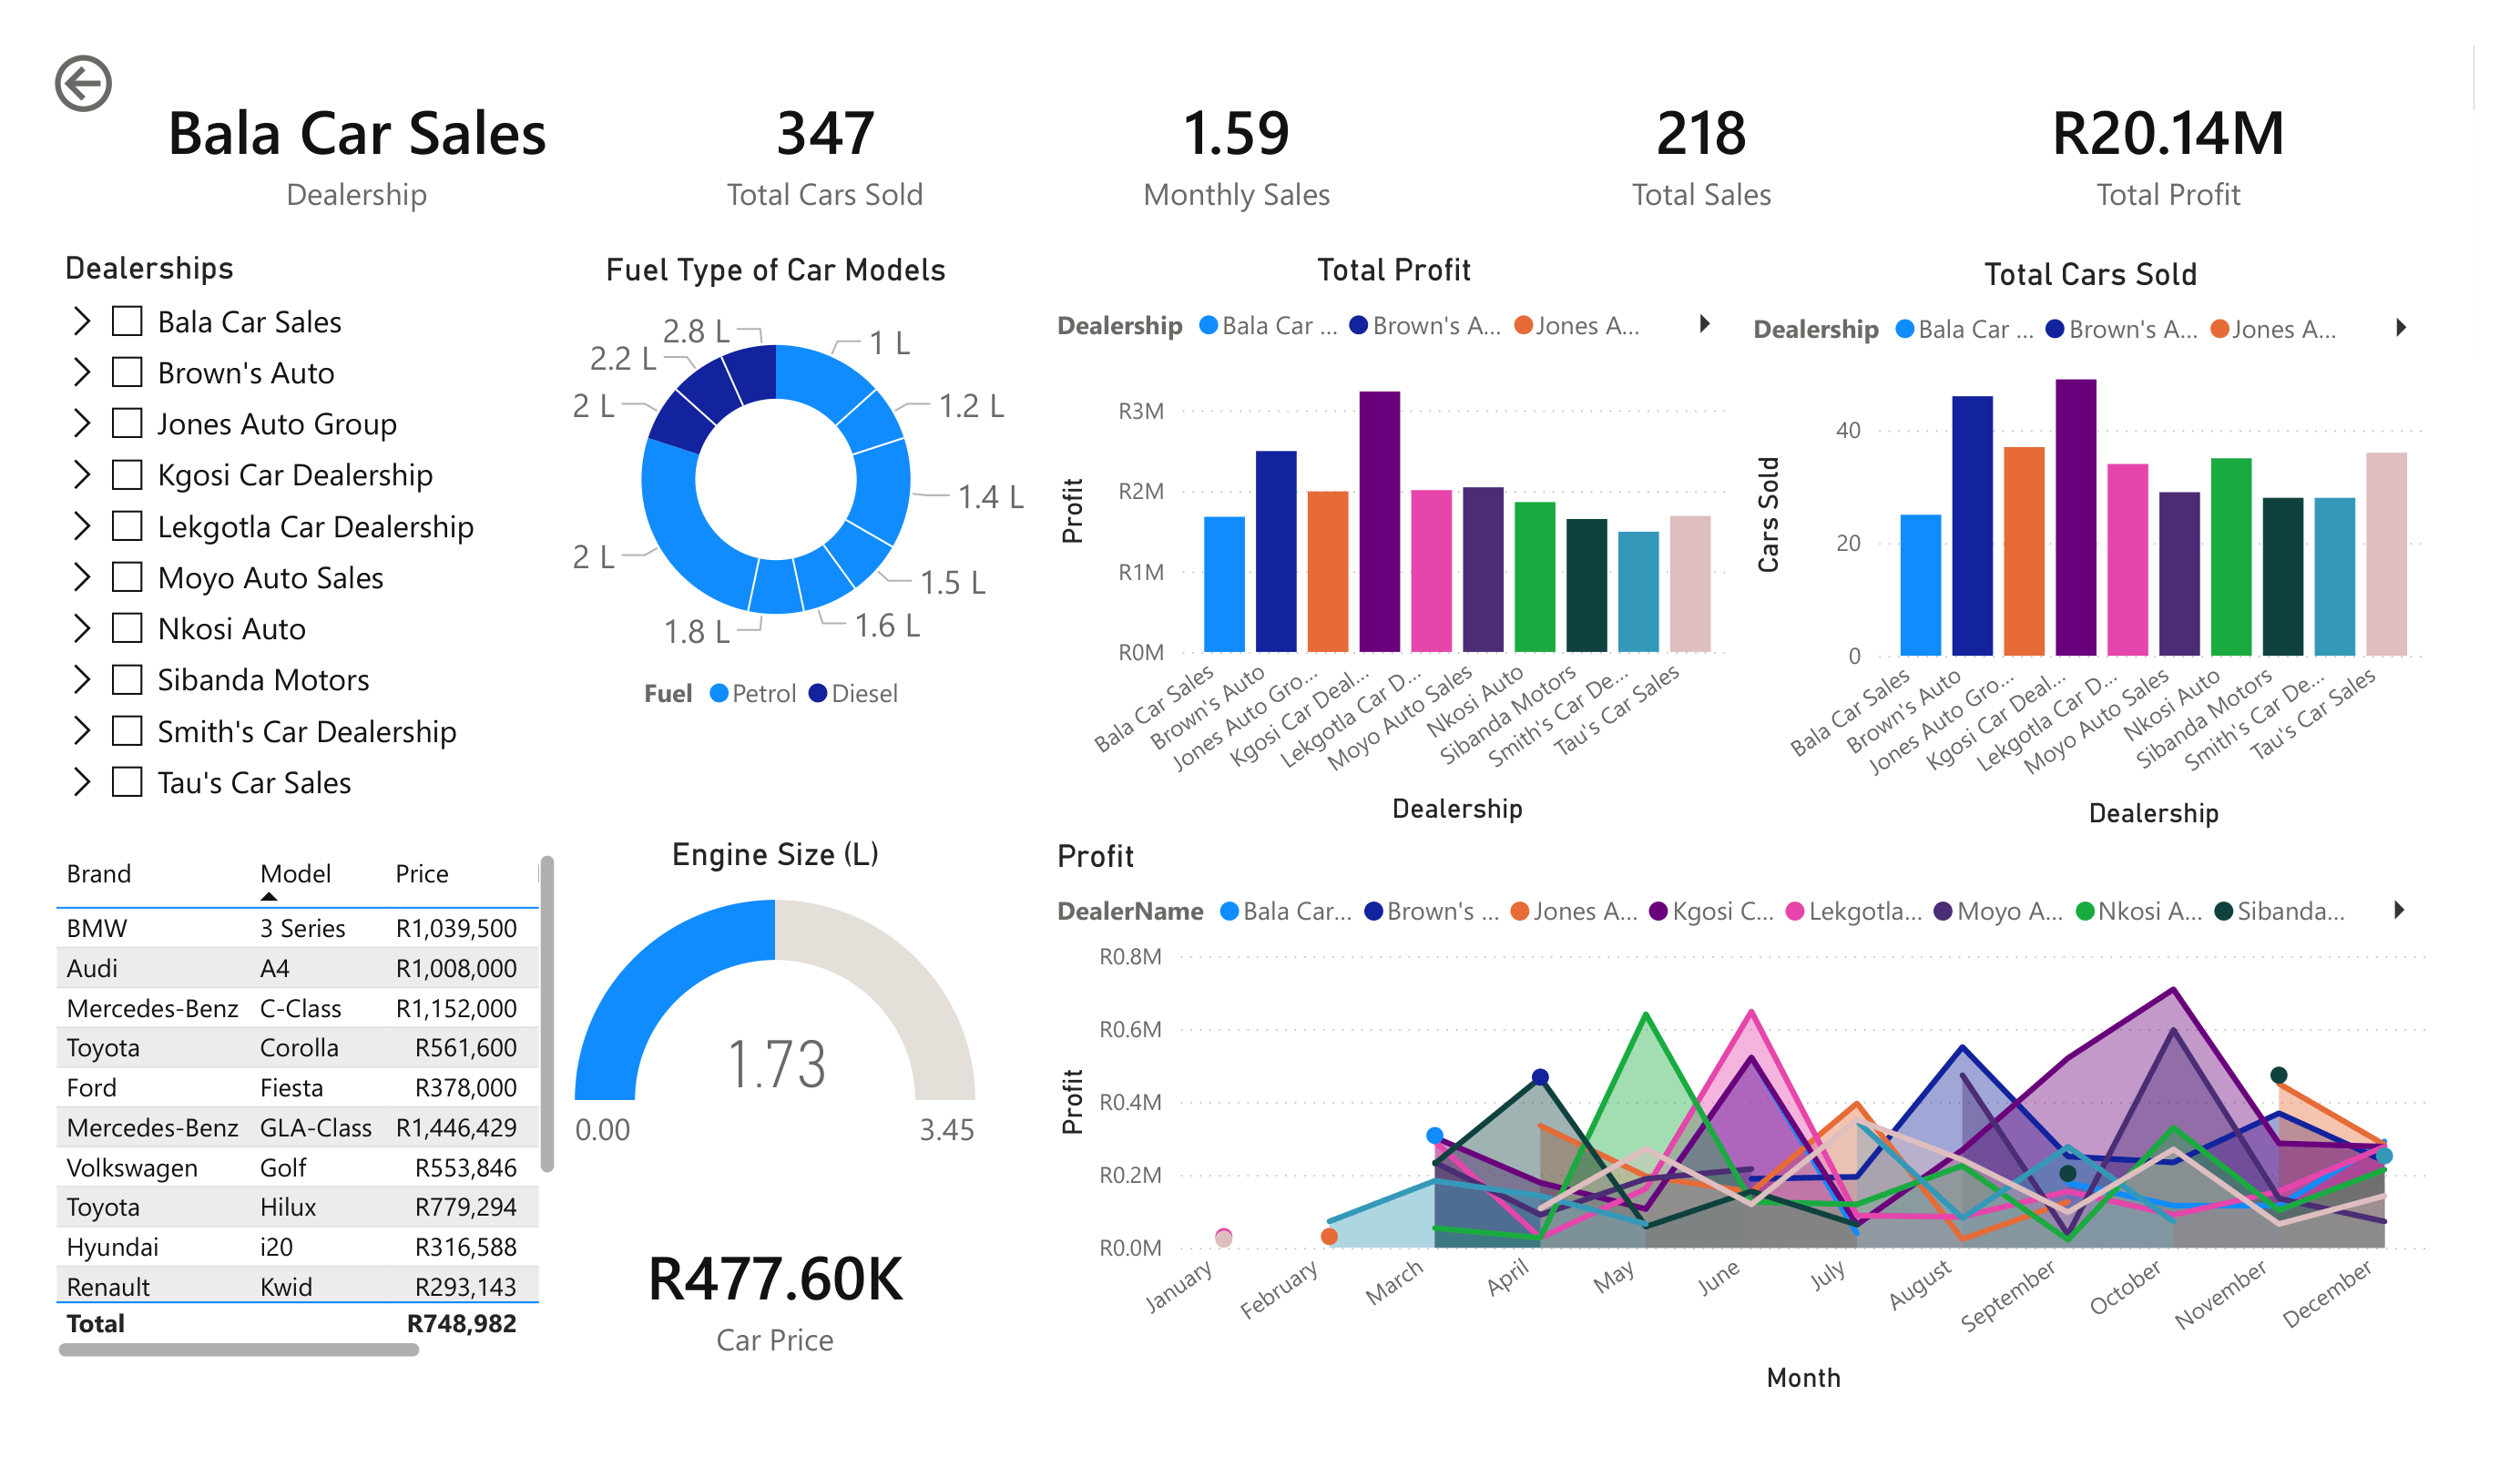

The page's visual inventory and layout, read from the dashboard file:
{"tool":"powerbi","page":{"name":"Page 1","canvas":[1280,720],"ordinal":0},"visuals":[{"type":"cardVisual","fields":{"Data":["CountNonNull(Sales.Quantity)"]},"box":[801.4,0,144.1,109.8],"z":0},{"type":"cardVisual","fields":{"Data":["Sum(Sales.Quantity)"]},"box":[327.7,0,166.3,110.1],"z":1000},{"type":"cardVisual","fields":{"Data":["Sum(Sales.Total Profit (ZAR))"]},"box":[1012.7,0,212.7,109.8],"z":2000},{"type":"tableEx","fields":{"Values":["Models.Brand","Models.Model","Models.Price (ZAR)"]},"box":[9.6,362.3,262.1,355.4],"z":3000},{"type":"cardVisual","fields":{"Data":["Avg(Sales.Quantity)"]},"box":[548.9,0,157.8,109.8],"z":4000},{"type":"cardVisual","fields":{"Data":["Min(Dealers.DealerName)"]},"box":[23.2,0,265.4,110.1],"z":5000},{"type":"donutChart","title":"Fuel Type of Car Models","fields":{"Category":["Models.Fuel"],"Y":["CountNonNull(Models.Fuel)"],"Series":["Models.Engine Sizes (L)"]},"box":[242.1,107.6,286.1,251.9],"z":6000},{"type":"tableEx","fields":{"Values":["Dealers.DealerID","Dealers.DealerName"]},"box":[9.8,99,232.3,249.5],"z":7000},{"type":"gauge","fields":{"Y":["Avg(Models.EngineSize (L))"]},"box":[273.9,414.5,221.3,187.1],"z":8000},{"type":"columnChart","title":"Total Profit","fields":{"Category":["Dealers.DealerName","Sales.Date.Variation.Date Hierarchy.Month","Dealers.City","Models.Brand","Models.Model"],"Y":["Sum(Sales.Total Profit (ZAR))"],"Series":["Dealers.DealerName"]},"box":[528.3,107.6,365.6,306.9],"z":9000},{"type":"columnChart","title":"Total Cars Sold","fields":{"Category":["Dealers.DealerName","Dealers.City","Models.Segment","Models.Model"],"Y":["Sum(Sales.Quantity)"],"Series":["Dealers.DealerName"]},"box":[894.7,109.8,366.4,307.4],"z":10000},{"type":"actionButton","box":[0,0,100,40],"z":11000},{"type":"lineChart","title":"Monthly Profit (ZAR)","fields":{"Category":["Sales.Date.Variation.Date Hierarchy.Month","Dealers.Country","Dealers.City"],"Series":["Dealers.DealerName"],"Y":["Avg(Sales.Total Profit (ZAR))"]},"box":[528.3,417.2,731.4,303.3],"z":12000},{"type":"cardVisual","fields":{"Data":["Avg(Models.Price (ZAR))"]},"box":[271.5,584.5,216.4,135.7],"z":13000}]}

Visuals, with their boxes on the page's 1280x720 design canvas (x1, y1, x2, y2). These are canvas units, not pixel positions in the 2520x1457 screenshot, which may show the page scaled, cropped or inside an application window:
cardVisual - CountNonNull(Sales.Quantity): locate(801, 0, 946, 110)
cardVisual - Sum(Sales.Quantity): locate(328, 0, 494, 110)
cardVisual - Sum(Sales.Total Profit (ZAR)): locate(1013, 0, 1225, 110)
tableEx - Models.Brand x Models.Model: locate(10, 362, 272, 718)
cardVisual - Avg(Sales.Quantity): locate(549, 0, 707, 110)
cardVisual - Min(Dealers.DealerName): locate(23, 0, 289, 110)
"Fuel Type of Car Models" donutChart: locate(242, 108, 528, 360)
tableEx - Dealers.DealerID x Dealers.DealerName: locate(10, 99, 242, 348)
gauge - Avg(Models.EngineSize (L)): locate(274, 414, 495, 602)
"Total Profit" columnChart: locate(528, 108, 894, 414)
"Total Cars Sold" columnChart: locate(895, 110, 1261, 417)
actionButton: locate(0, 0, 100, 40)
"Monthly Profit (ZAR)" lineChart: locate(528, 417, 1260, 720)
cardVisual - Avg(Models.Price (ZAR)): locate(272, 584, 488, 720)
